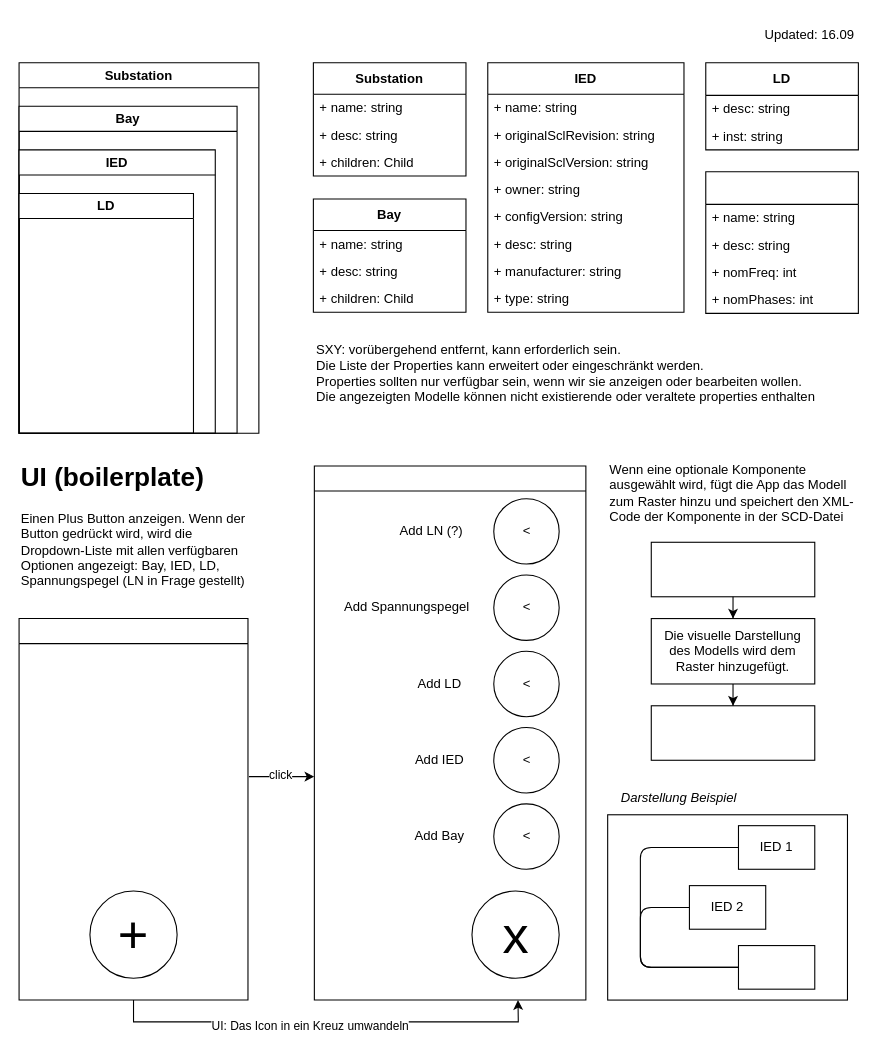
Image size: 888x1051. Some labels were removed from this diagram. Here are the shapes that lost their labels. From the top down, the box of each, then its label:
(705, 171, 858, 313): Spannungspegel
(650, 541, 815, 597): Optionale Komponente ausgewählt
(313, 465, 586, 1000): Button GEDRÜCKT
(650, 705, 815, 760): XML Code der Datei hinzugefügt
(18, 617, 248, 1000): Button IDLE
(737, 944, 815, 989): IED 3
